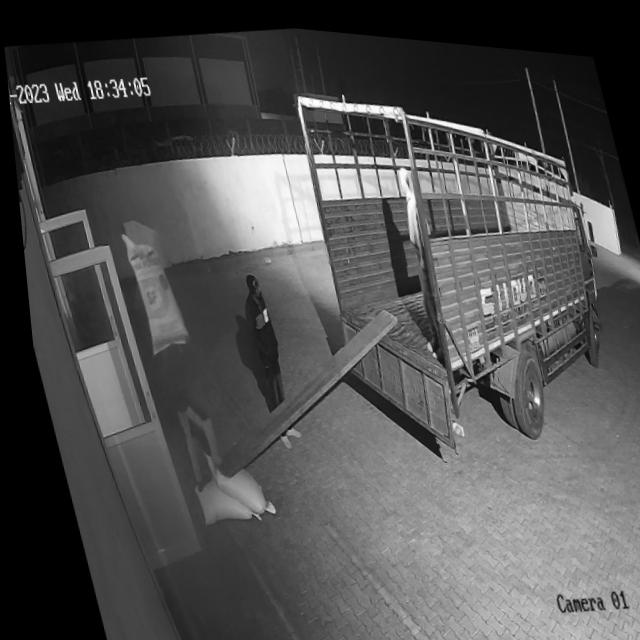sack: (113, 222, 188, 355), (194, 438, 268, 518), (182, 468, 253, 527)
